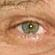eye: (23, 23, 39, 34)
